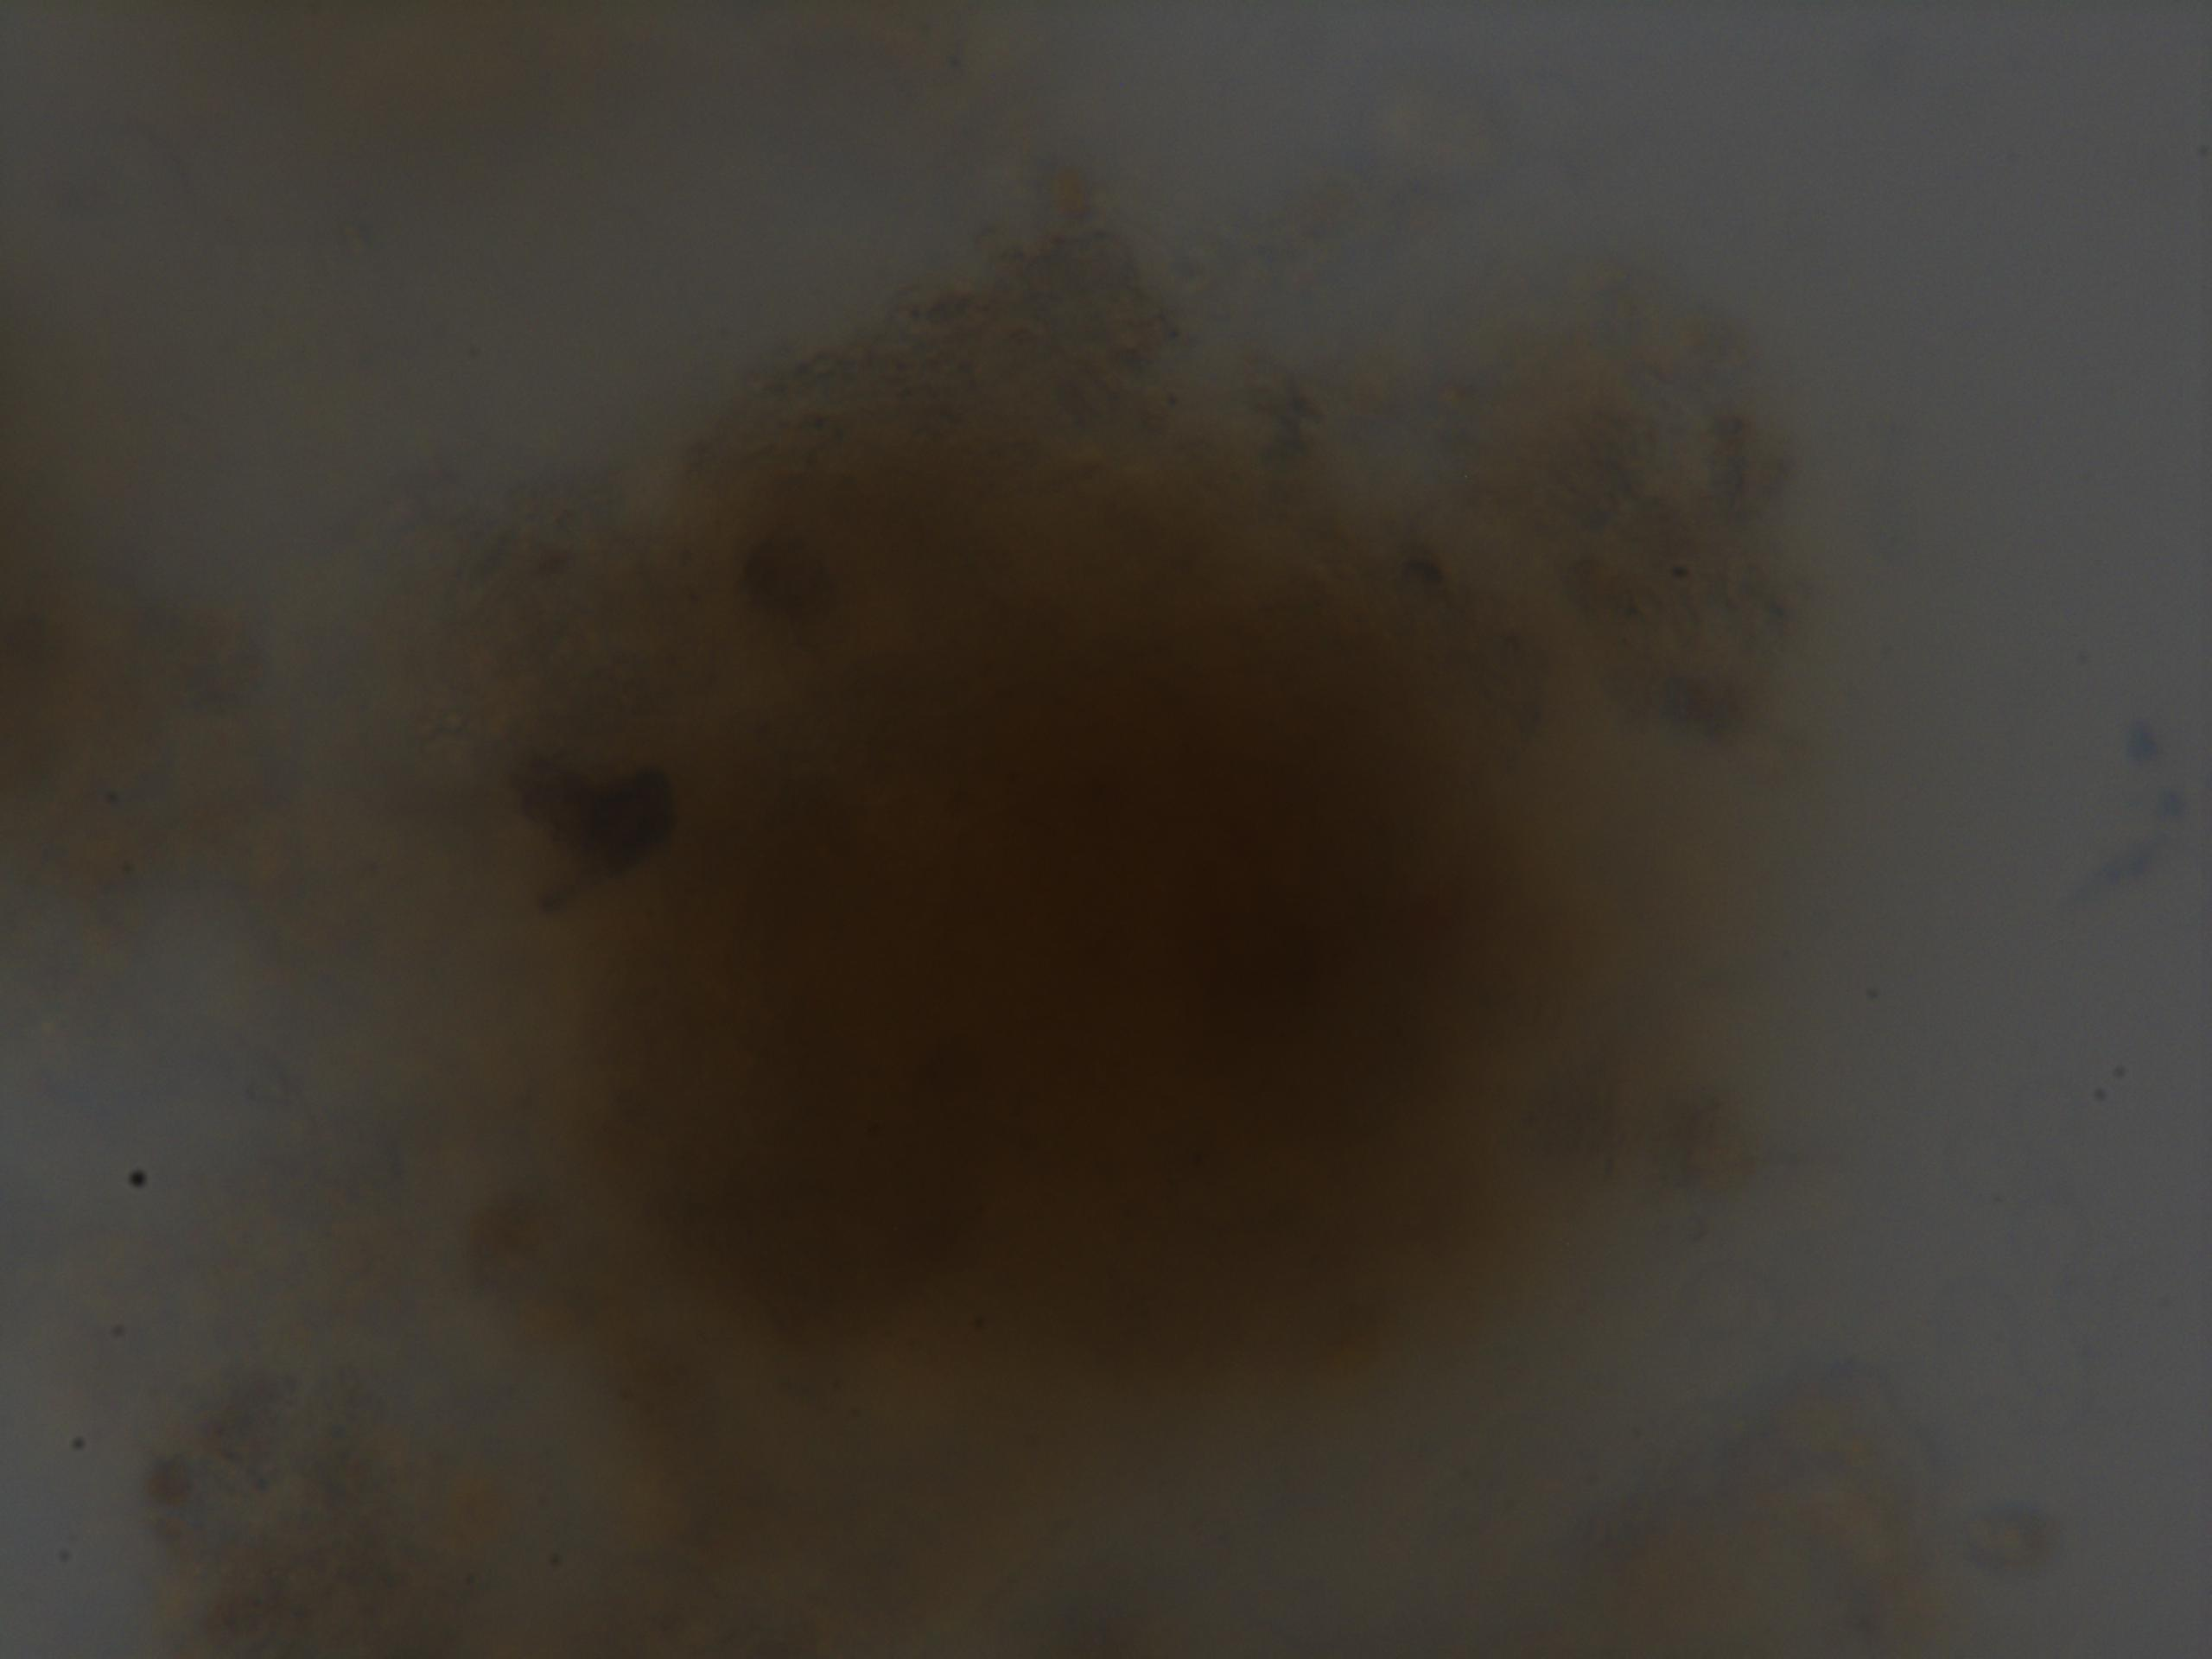spherical_floc: (435, 275, 1766, 1427)
